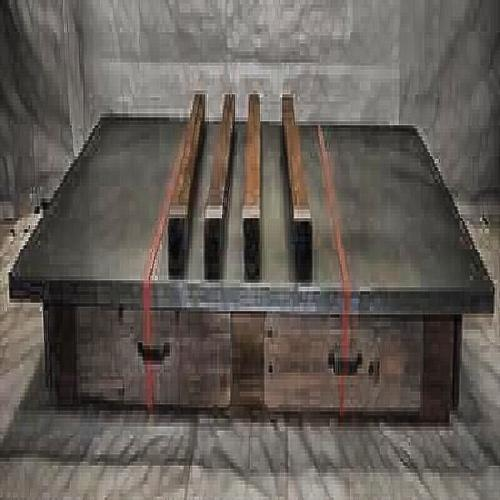table: (32, 107, 472, 429)
